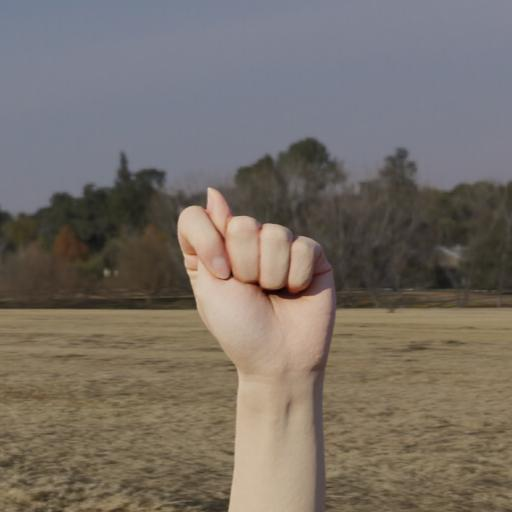T: (154, 156, 353, 398)
